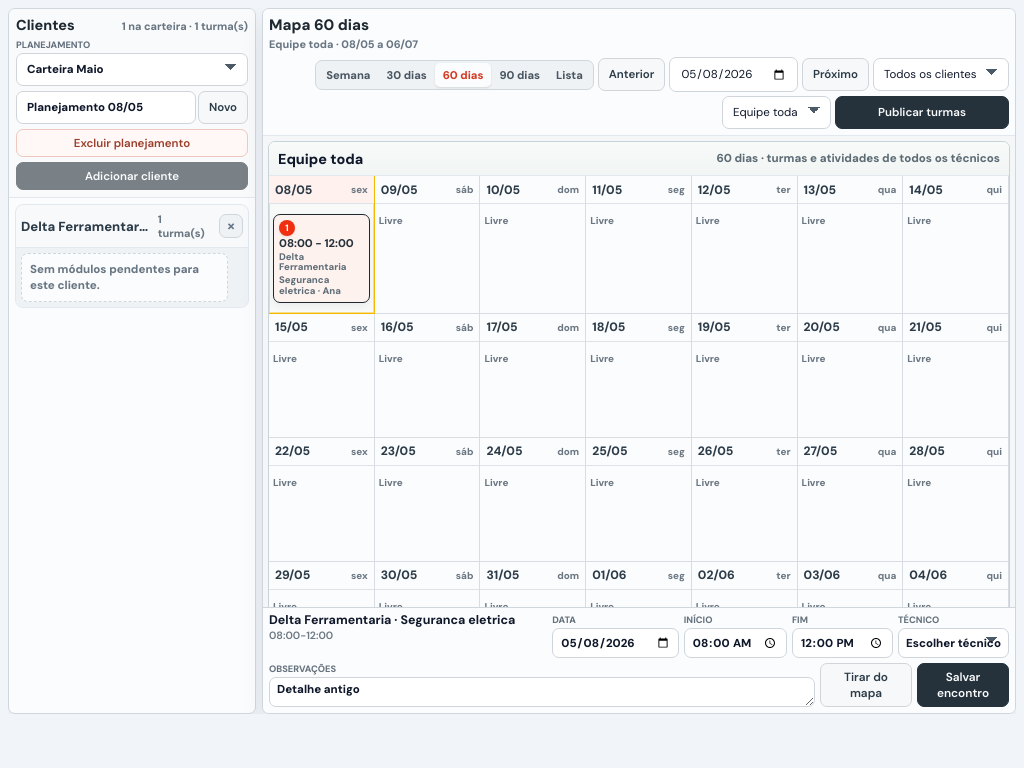
Test: PlanningPage › clears old workspace detail while the next workspace loads
Expected: the text "Delta Ferramentaria" below "Clientes" is shown, [21,218,150,234]
Step 1. Select "Carteira Junho" in the dropdown labelled "Planejamento" → (132, 70), box [16,53,248,86]
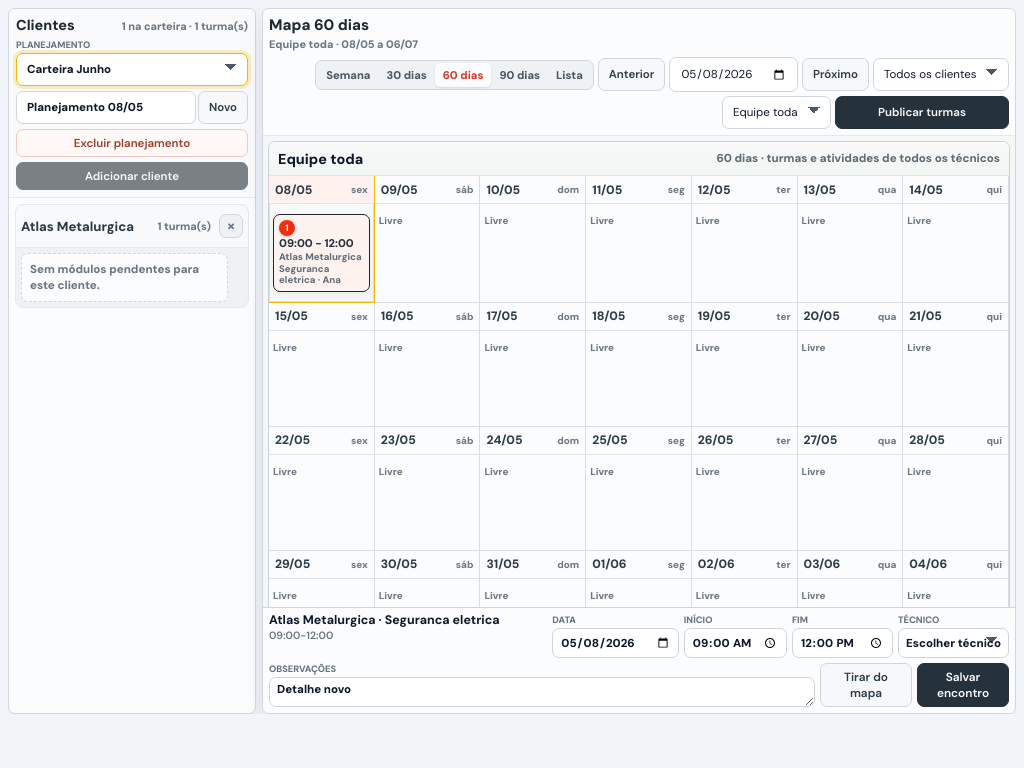
Expected: the button "Delta Ferramentaria" is gone
Expected: the text "Atlas Metalurgica" below "Clientes" is shown, [21,218,134,234]
Expected: the text box showing "Detalhe novo" is shown, [269,677,815,707]
